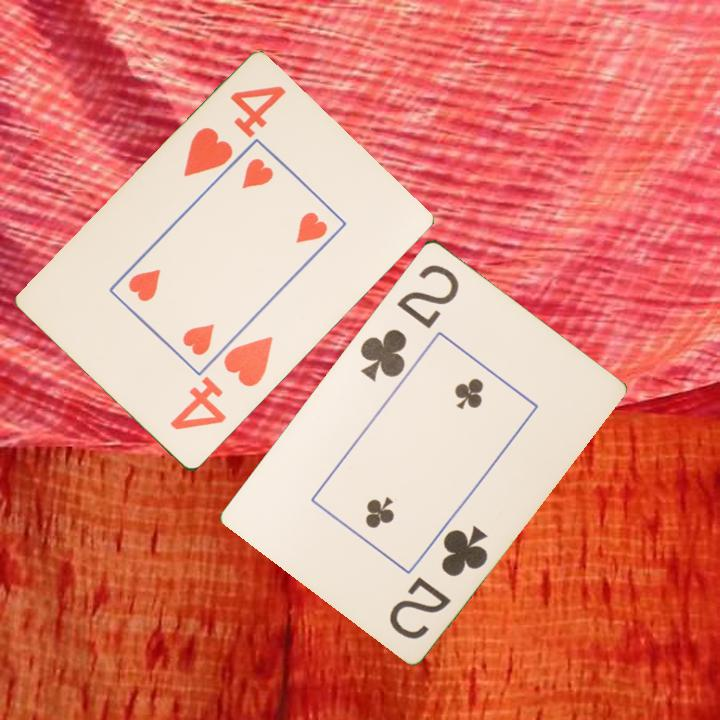2c: (356, 260, 463, 384), (385, 521, 491, 642)
4h: (166, 333, 277, 434), (179, 82, 290, 181)
